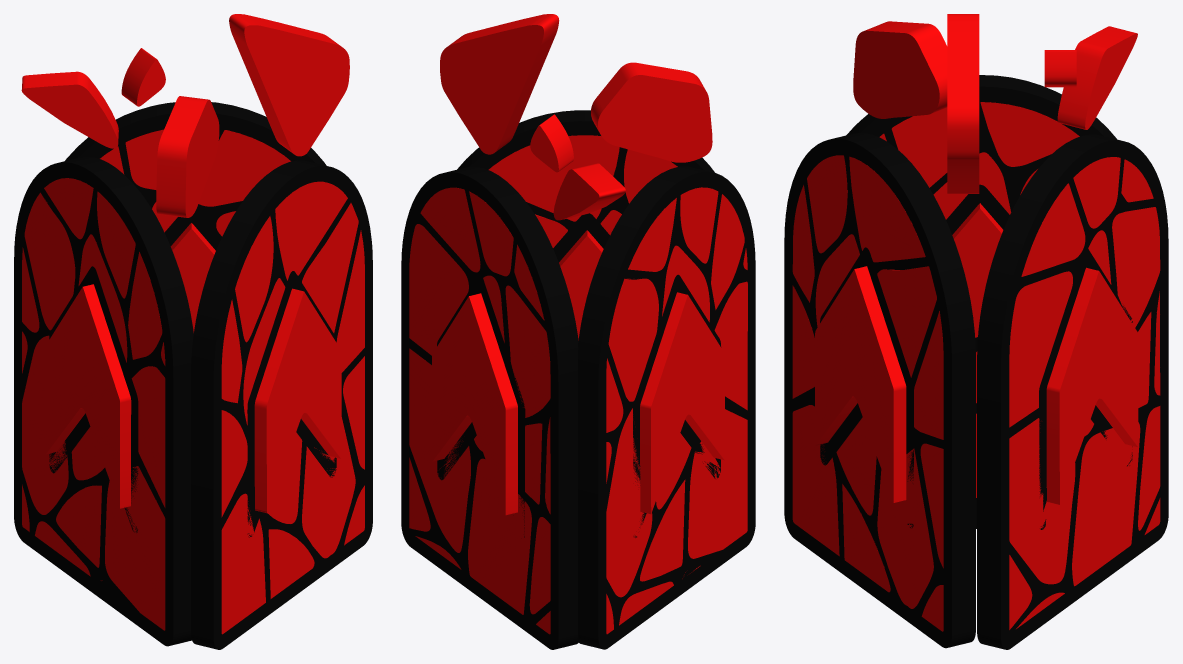
The model's file is spliter.fbx.
The picture shows the model from 3 angles, left to right: view 1: azimuth 30°, elevation 25°; view 2: azimuth 150°, elevation 25°; view 3: azimuth 270°, elevation 25°; orthographic projection. The views are drawn at different scales.
Parts seen in each view (by area): view 1: Fill_2_2, Polygon, Fill_15, Fill_47, Fill, Fill_46, Fill_17, Fill_1, Fill_13, Fill_45, Fill_44, Fill_14 (+25 smaller); view 2: Polygon, Fill_17, Fill_29, Fill_47, Fill, Fill_1, Fill_46, Fill_28, Fill_27, Fill_45, Fill_26, Fill_2_2 (+23 smaller); view 3: Fill_17, Fill_2_2, Fill_29, Fill_15, Fill_1, Fill_28, Fill_27, Polygon, Fill, Fill_26, Fill_14, Fill_13 (+25 smaller).
Boxes of the visible parts, x1,y1,x2,y2 form: Fill_2_2: (191,160,372,649); Polygon: (14,156,193,646); Fill_15: (254,288,341,513); Fill_47: (45,284,131,508); Fill: (229,14,349,156); Fill_46: (105,466,165,630); Fill_17: (65,102,326,250); Fill_1: (156,96,219,217); Fill_13: (221,493,265,634); Fill_45: (22,335,68,514); Fill_44: (24,192,75,330); Fill_14: (302,417,355,558); Polygon: (578,166,755,649); Fill_17: (401,166,578,649); Fill_29: (432,293,517,515); Fill_47: (640,292,724,514); Fill: (440,14,559,154); Fill_1: (591,62,712,162); Fill_46: (688,409,747,558); Fill_28: (468,458,531,614); Fill_27: (409,348,470,552); Fill_45: (606,408,652,597); Fill_26: (409,224,468,355); Fill_2_2: (457,110,714,262); Fill_17: (977,134,1168,649); Fill_2_2: (784,133,975,648); Fill_29: (1046,267,1138,504); Fill_15: (815,266,906,502); Fill_1: (853,21,947,118); Fill_28: (1072,422,1140,586); Fill_27: (1009,418,1075,584); Polygon: (846,75,1116,528); Fill: (947,14,979,193); Fill_26: (1009,271,1072,427); Fill_14: (877,448,933,608); Fill_13: (792,405,839,556).
Bounding box in the file's own units: 15.89 × 29.56 × 17.91.
